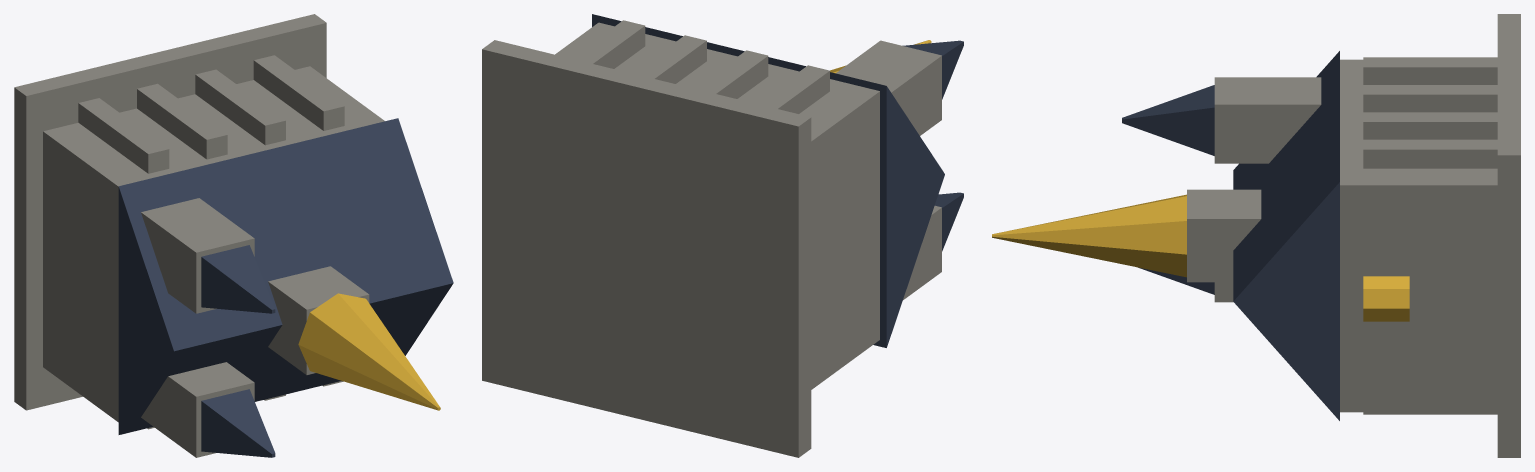
Rendered from SM_Cathedral.obj.
3 renders of one model, left to right at view 1: azimuth 30°, elevation 25°; view 2: azimuth 150°, elevation 25°; view 3: azimuth 270°, elevation 25°, orthographic. The views are drawn at different scales.
Visible parts, largest first — view 1: SM_Cathedral_stone, SM_Cathedral_slate, SM_Cathedral_gold; view 2: SM_Cathedral_stone, SM_Cathedral_slate; view 3: SM_Cathedral_stone, SM_Cathedral_slate, SM_Cathedral_gold.
Boxes of the visible parts, left/top/right/bottom form: SM_Cathedral_stone: left=14, top=14, right=384, bottom=457; SM_Cathedral_slate: left=118, top=118, right=453, bottom=457; SM_Cathedral_gold: left=298, top=293, right=440, bottom=410; SM_Cathedral_stone: left=482, top=20, right=941, bottom=457; SM_Cathedral_slate: left=592, top=14, right=963, bottom=347; SM_Cathedral_stone: left=1187, top=14, right=1520, bottom=457; SM_Cathedral_slate: left=1122, top=51, right=1339, bottom=420; SM_Cathedral_gold: left=992, top=194, right=1409, bottom=321.
Bounding box in the file's own units: 730 × 720 × 1140.
